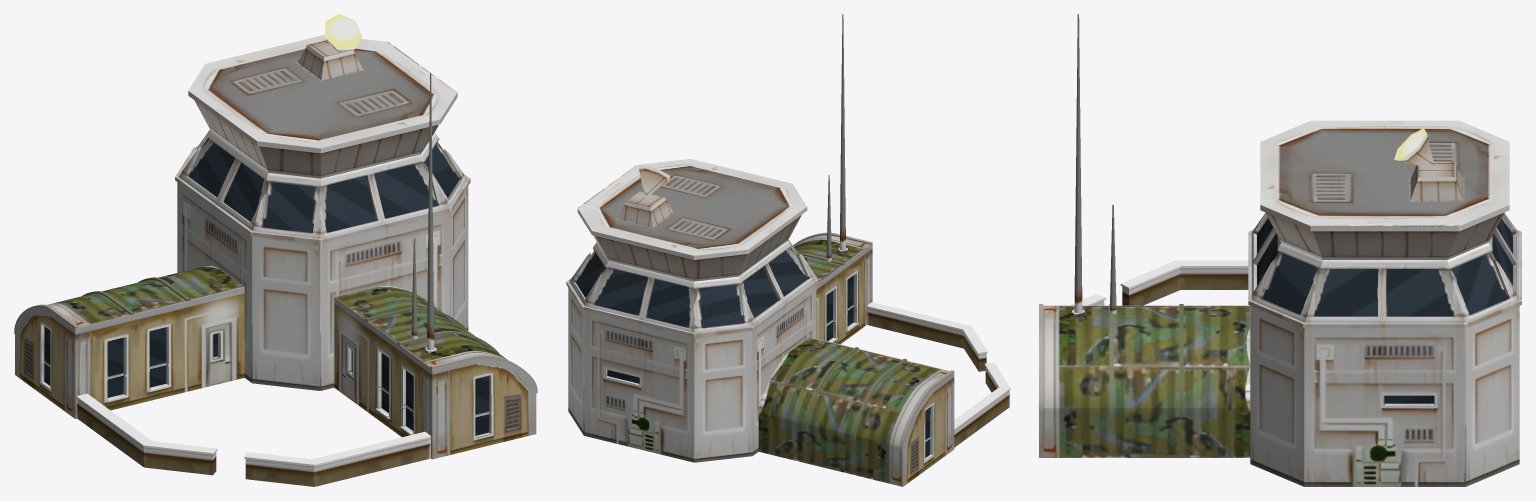
Rendered from l_spotlightcontrol_cad.glb.
3 views of the same model, side by side, from view 1: azimuth 30°, elevation 25°; view 2: azimuth 150°, elevation 25°; view 3: azimuth 270°, elevation 25° (orthographic). The views are drawn at different scales.
Parts seen in each view (by area): view 1: L_SpotlightControl, light; view 2: L_SpotlightControl, light; view 3: L_SpotlightControl, light.
Boxes of the visible parts, <box> form: L_SpotlightControl: <box>14,34,537,486</box>; light: <box>325,14,362,49</box>; L_SpotlightControl: <box>566,14,1010,486</box>; light: <box>638,165,670,198</box>; L_SpotlightControl: <box>1039,14,1521,486</box>; light: <box>1394,128,1435,169</box>.
Bounding box in the file's own units: 17.91 × 16.3 × 17.93.
2 materials, 2 textured.
